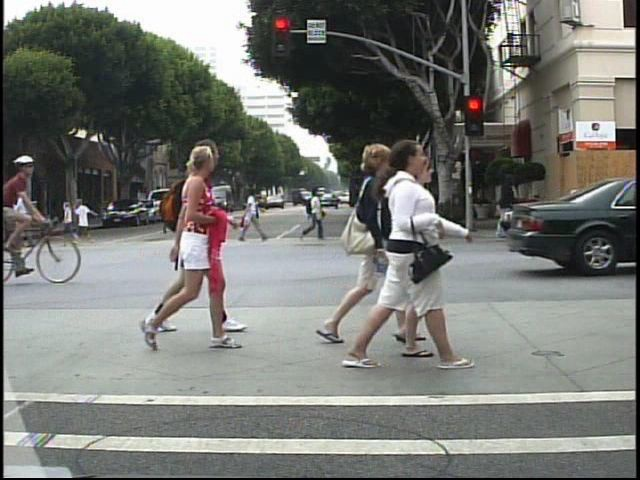person: (376, 136, 458, 376), (155, 143, 243, 351), (376, 159, 457, 367), (317, 142, 393, 354), (192, 140, 245, 339), (298, 184, 332, 246), (237, 185, 268, 249), (408, 177, 437, 243), (14, 188, 38, 247), (374, 187, 389, 223)
